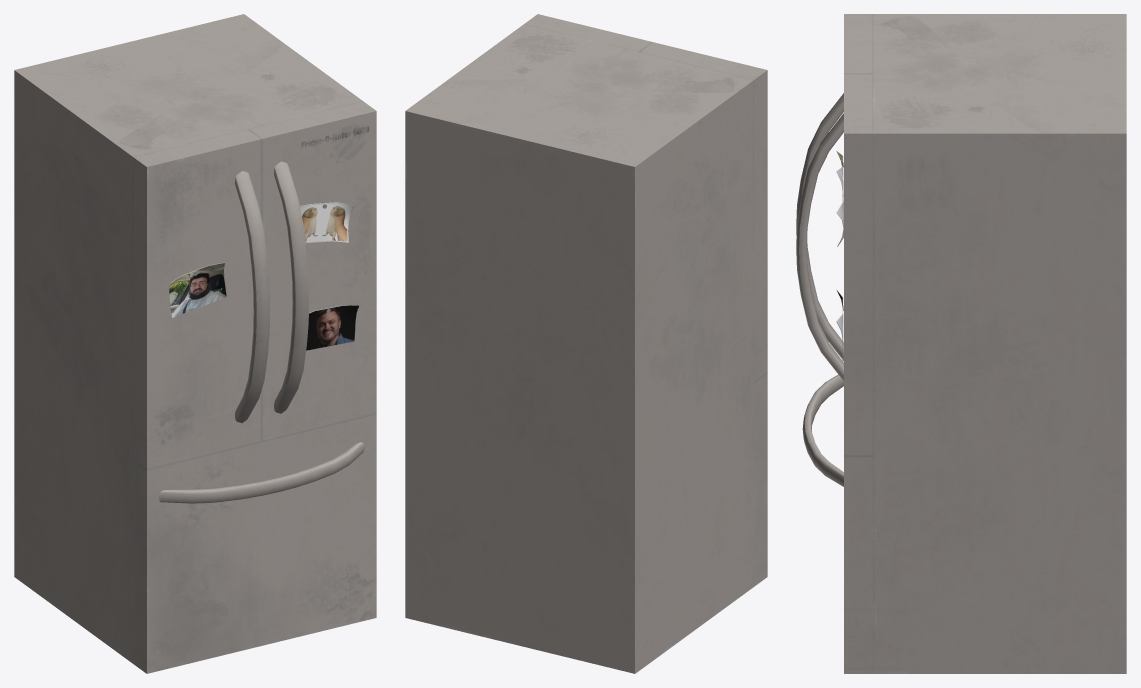
The model's file is Fridge.fbx.
3 views of the same model, side by side, from view 1: azimuth 30°, elevation 25°; view 2: azimuth 150°, elevation 25°; view 3: azimuth 270°, elevation 25° (orthographic). The views are drawn at different scales.
Parts seen in each view (by area): view 1: Fridge; view 2: Fridge; view 3: Fridge.
Boxes of the visible parts, left/top/right/bottom form: Fridge: left=14, top=14, right=376, bottom=673; Fridge: left=405, top=14, right=767, bottom=673; Fridge: left=796, top=14, right=1126, bottom=673.
Bounding box in the file's own units: 108 × 228 × 127.
